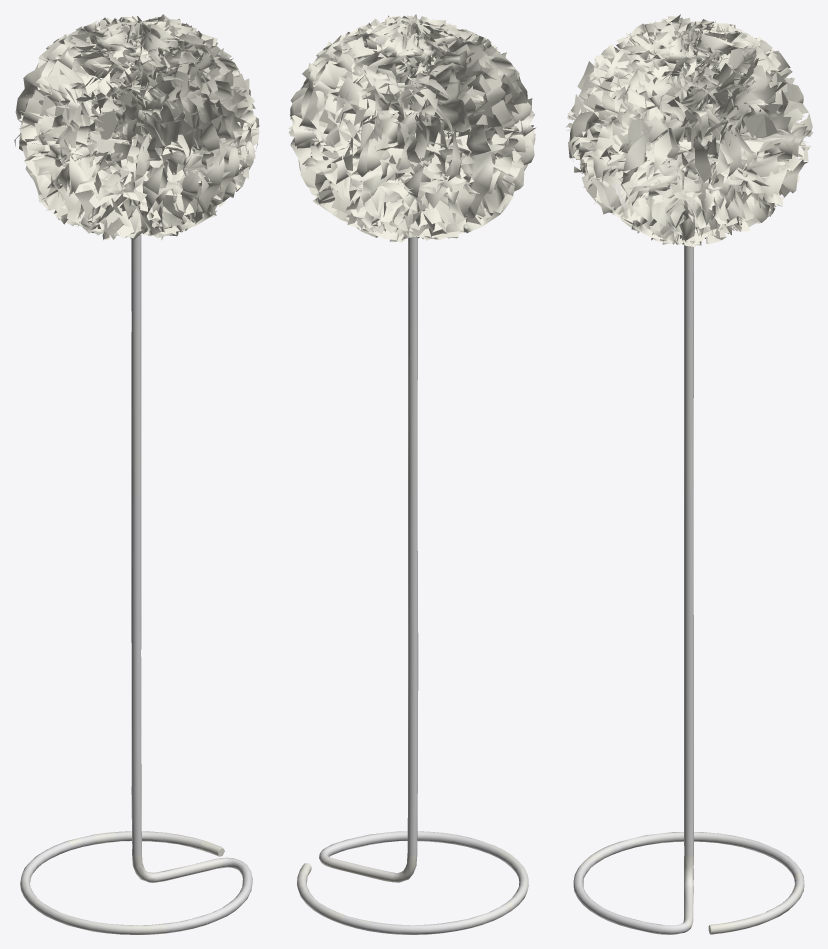
The model's file is vindkast_floor_lamp_white.glb.
3 views of the same model, side by side, from view 1: azimuth 30°, elevation 25°; view 2: azimuth 150°, elevation 25°; view 3: azimuth 270°, elevation 25° (orthographic).
Visible parts, largest first — view 1: G-40539084-VINDKAST; view 2: G-40539084-VINDKAST; view 3: G-40539084-VINDKAST.
Boxes of the visible parts, x1,y1,x2,y2 form: G-40539084-VINDKAST: (14,14,259,934); G-40539084-VINDKAST: (288,14,536,934); G-40539084-VINDKAST: (565,14,813,934).
Bounding box in the file's own units: 0.3761 × 1.47 × 0.3842.
1 material, 1 textured.
